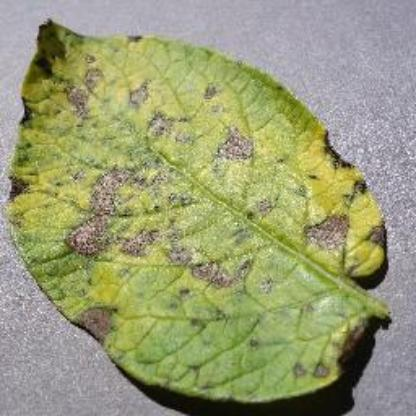Early-Blight: (9, 14, 402, 406)
